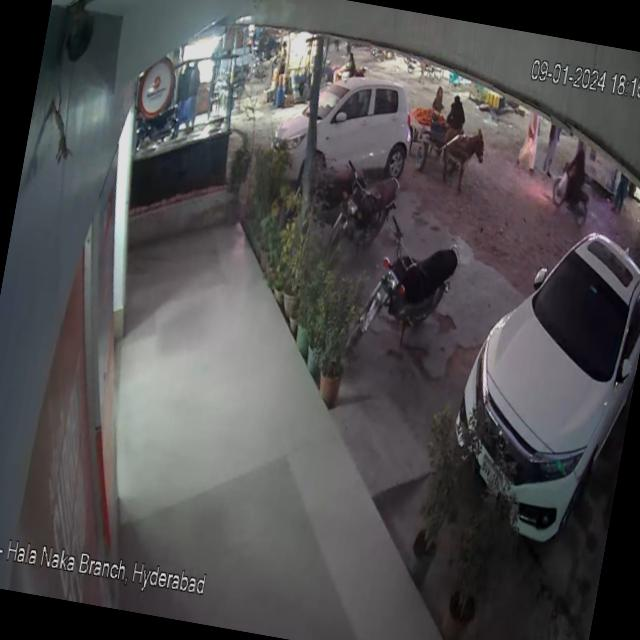Car: (433, 171, 640, 565), (248, 46, 426, 189)
Motorcycle: (342, 200, 476, 374), (331, 158, 408, 257)
